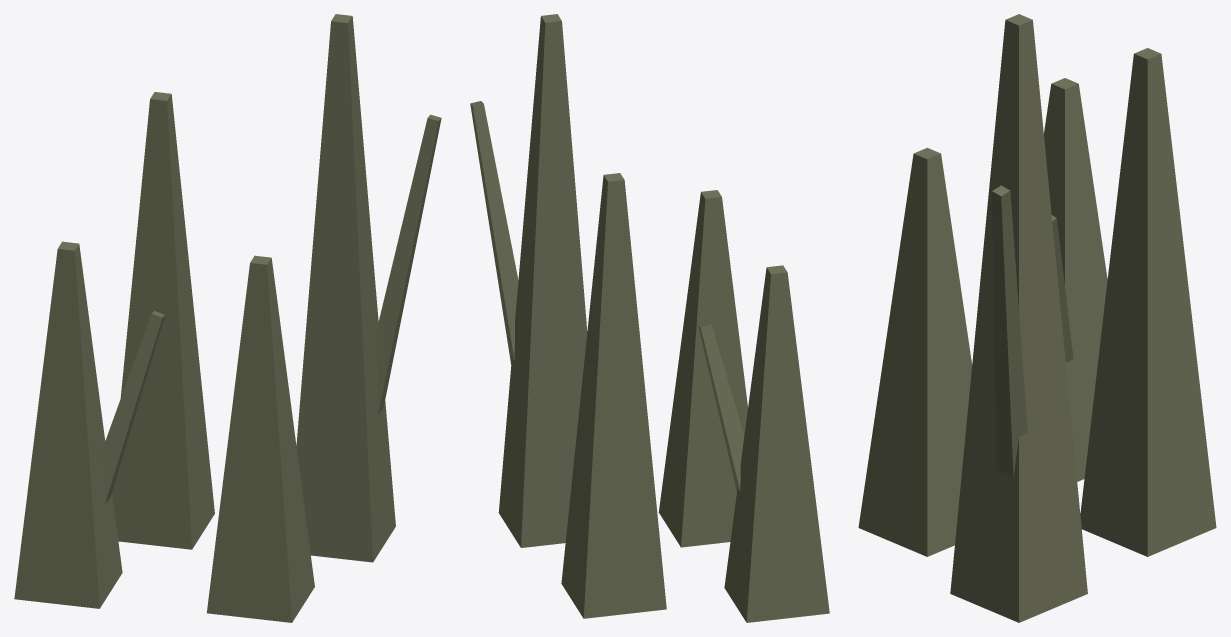
File: weed_tuft.glb
3 renders of one model, left to right at view 1: azimuth 30°, elevation 25°; view 2: azimuth 150°, elevation 25°; view 3: azimuth 270°, elevation 25°, orthographic. The views are drawn at different scales.
Parts seen in each view (by area): view 1: weed_tuft; view 2: weed_tuft; view 3: weed_tuft.
Part boxes in pixels (<box>): weed_tuft: <box>14,14,441,622</box>; weed_tuft: <box>470,14,829,622</box>; weed_tuft: <box>858,14,1216,622</box>.
Bounding box in the file's own units: 0.552 × 0.697 × 0.39.
